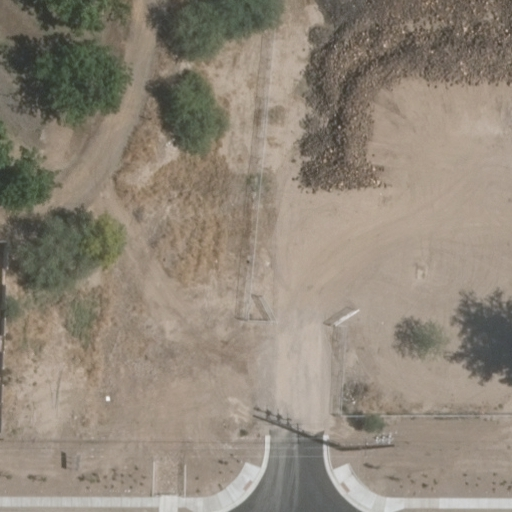DT: (328, 426, 401, 457)
